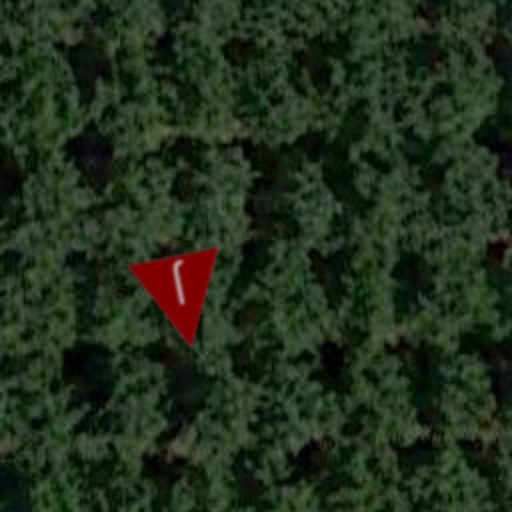triangle: (126, 246, 238, 358)
